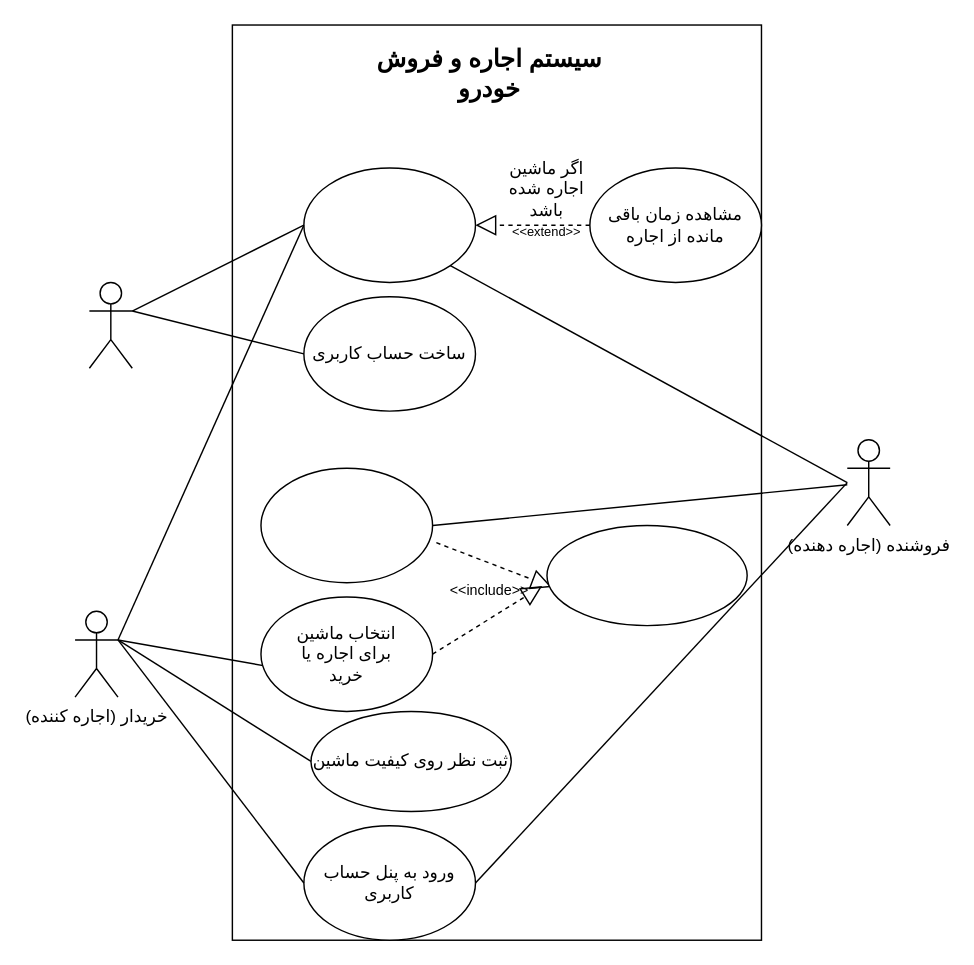
Image size: 974x965. Some labels were removed from this diagram. The shapes that lost their labels are listed below. From the top down, each one's centre as x and y in pixels, then its label:
At (388,224): "مشاهده لیست خودرو ها".
At (110,324): "بازدید کننده".
At (346,525): "قرار دادن ماشین برای فروش یا اجاره".
At (646,575): "بررسی خوردگی های ماشین".
